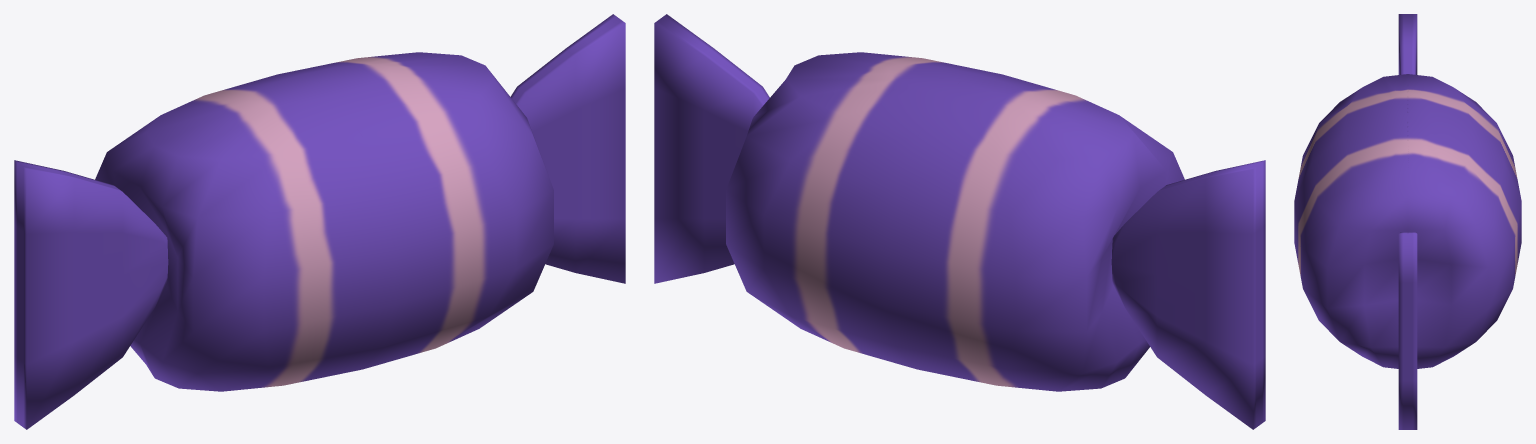
File: Candy_2.fbx
The picture shows the model from 3 angles, left to right: view 1: azimuth 30°, elevation 25°; view 2: azimuth 150°, elevation 25°; view 3: azimuth 270°, elevation 25°; orthographic projection. The views are drawn at different scales.
Visible parts, largest first — view 1: Candy 2; view 2: Candy 2; view 3: Candy 2.
Part boxes in pixels (x1,y1,x2,y2): Candy 2: (14, 14, 625, 429); Candy 2: (654, 14, 1265, 429); Candy 2: (1294, 14, 1521, 429).
Bounding box in the file's own units: 8.83 × 3.94 × 3.86.
